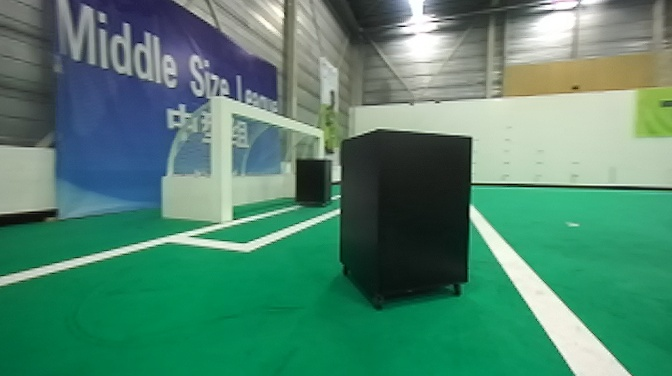goalpost: (209, 94, 236, 222), (311, 125, 327, 163)
